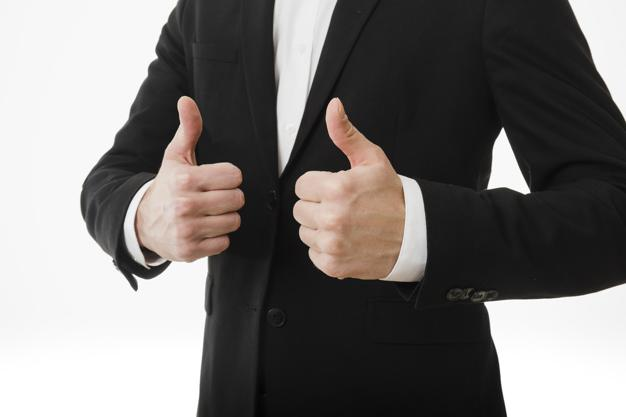thumbsup: (293, 97, 381, 279), (168, 96, 245, 262)
